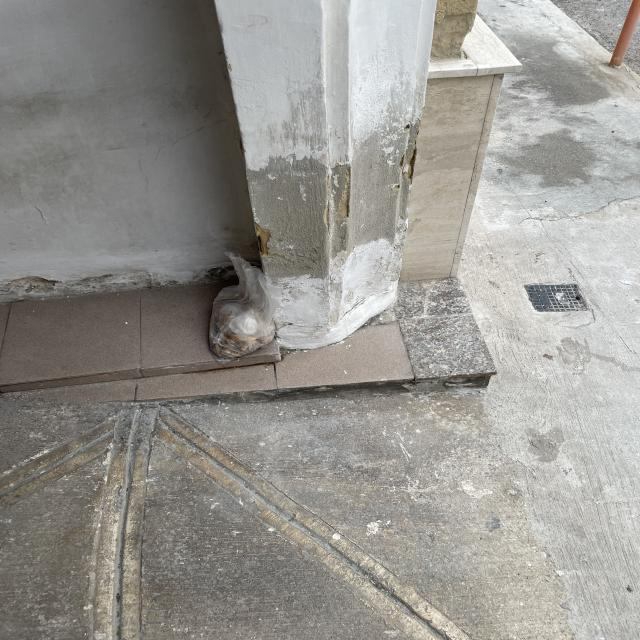white_bag: (209, 260, 281, 369)
